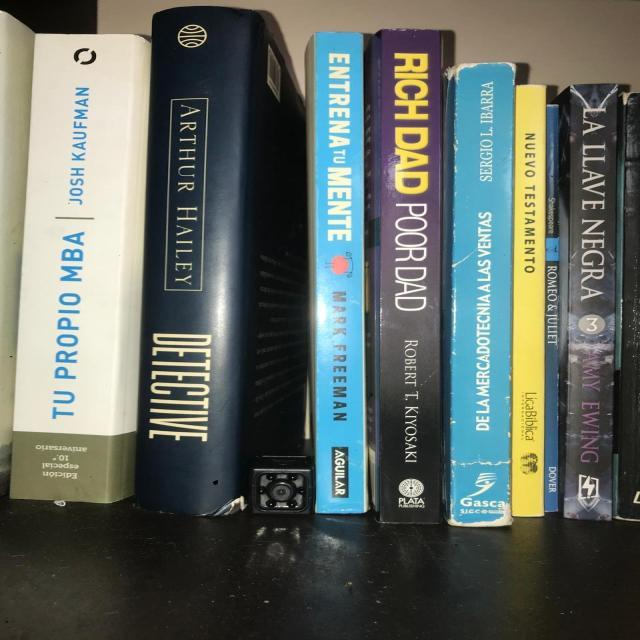hidden camera: (271, 483, 292, 502)
